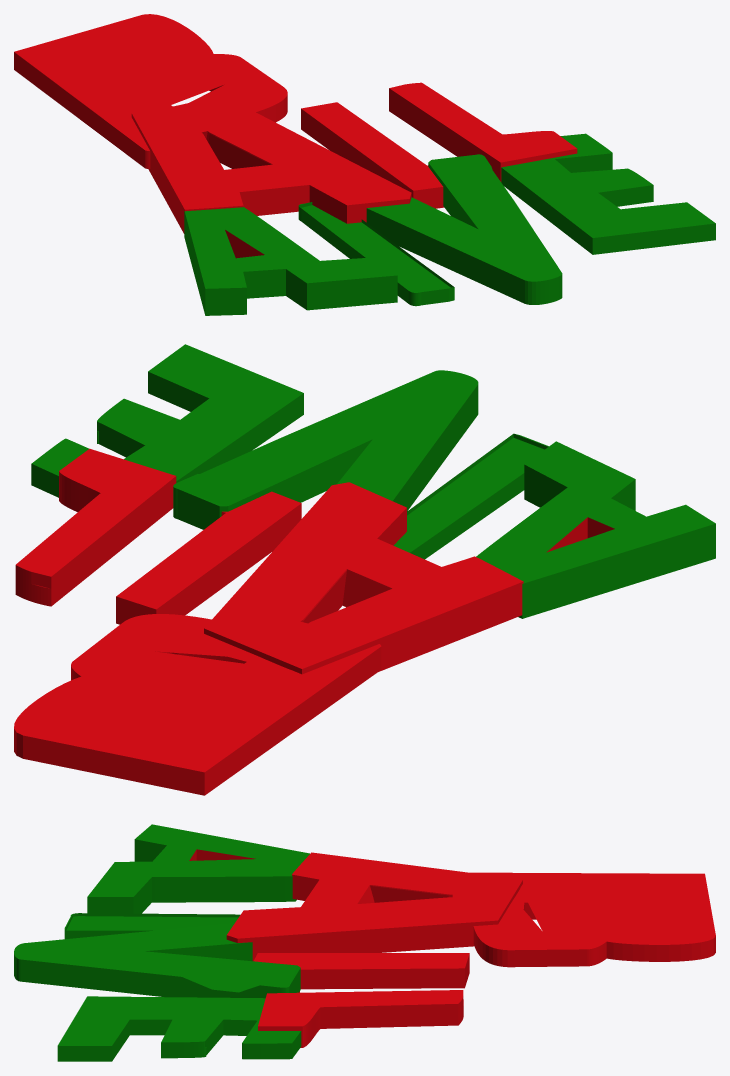
File: Titulo.fbx
3 views of the same model, one above another, from view 1: azimuth 30°, elevation 25°; view 2: azimuth 150°, elevation 25°; view 3: azimuth 270°, elevation 25° (orthographic). The views are drawn at different scales.
Visible parts, largest first — view 1: B; view 2: B; view 3: B.
Boxes of the visible parts, box(x1,y1,x2,y2) form: B: box(14, 14, 715, 315); B: box(14, 344, 715, 795); B: box(14, 824, 715, 1061).
Size of the model in its own units: 280 by 17.4 by 392.
